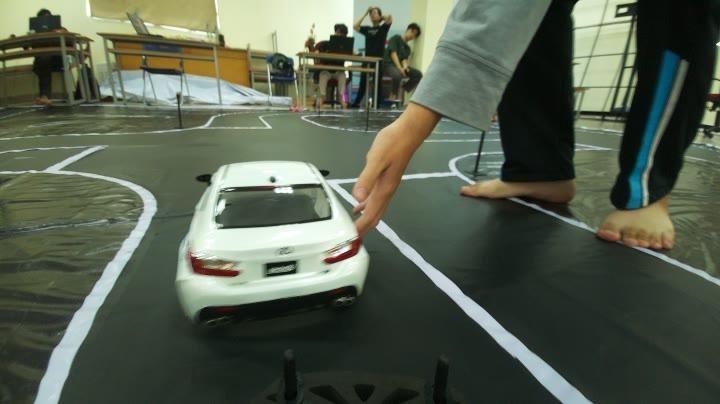car: (166, 152, 370, 324)
